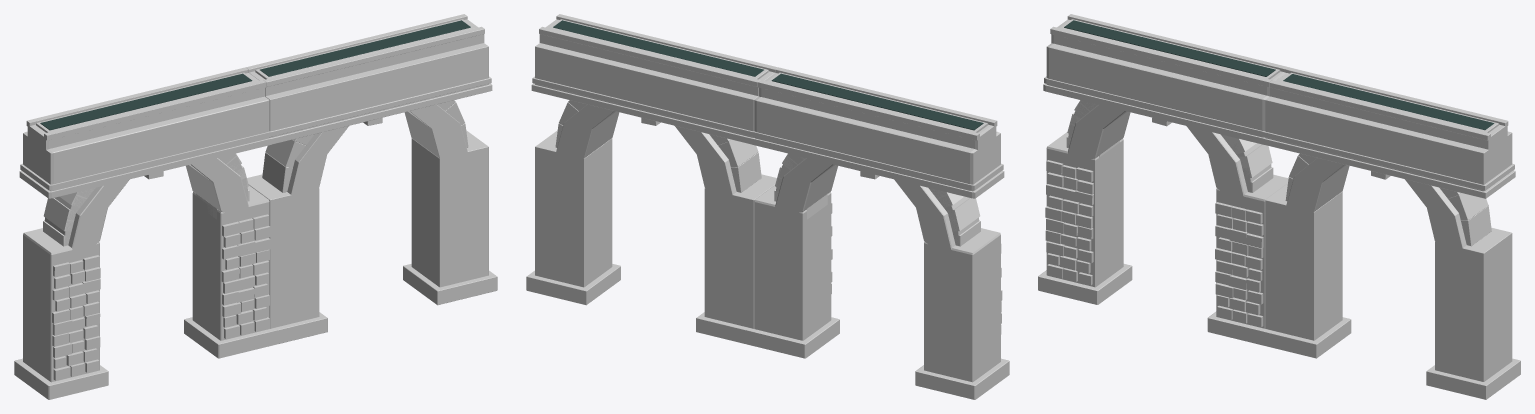
The model's file is Aqueduct.fbx.
3 renders of one model, left to right at view 1: azimuth 30°, elevation 25°; view 2: azimuth 150°, elevation 25°; view 3: azimuth 330°, elevation 25°, orthographic.
Visible parts, largest first — view 1: AQ_Joined, AQ_UpperMass, AQ_Pier_L, AQ_Arch, AQ_Pier_R, AQ_Channel, AQ_Water, AQ_Course_01, AQ_Channel_Lip_02, AQ_Foundation_L, AQ_Foundation_R, AQ_Course_02 (+4 smaller); view 2: AQ_Joined, AQ_Pier_L, AQ_Pier_R, AQ_UpperMass, AQ_Arch, AQ_Channel, AQ_Water, AQ_Course_01, AQ_Channel_Lip_01, Voussoir_01, AQ_Foundation_L, AQ_Foundation_R (+4 smaller); view 3: AQ_Joined, AQ_UpperMass, AQ_Pier_L, AQ_Arch, AQ_Channel, AQ_Water, AQ_Channel_Lip_02, AQ_Foundation_L, AQ_Course_01, Voussoir_01, AQ_Pier_R, AQ_Course_02 (+4 smaller).
Boxes of the visible parts, x1=… form: AQ_Joined: x1=246, y1=14, x2=497, y2=343; AQ_UpperMass: x1=23, y1=96, x2=269, y2=191; AQ_Pier_L: x1=23, y1=228, x2=99, y2=382; AQ_Arch: x1=68, y1=148, x2=251, y2=262; AQ_Pier_R: x1=192, y1=185, x2=269, y2=340; AQ_Channel: x1=27, y1=73, x2=264, y2=155; AQ_Water: x1=40, y1=73, x2=252, y2=130; AQ_Course_01: x1=19, y1=138, x2=270, y2=198; AQ_Channel_Lip_02: x1=44, y1=80, x2=265, y2=140; AQ_Foundation_L: x1=14, y1=358, x2=108, y2=399; AQ_Foundation_R: x1=184, y1=317, x2=277, y2=358; AQ_Course_02: x1=20, y1=132, x2=270, y2=190; AQ_Joined: x1=526, y1=14, x2=777, y2=343; AQ_Pier_L: x1=924, y1=228, x2=1000, y2=382; AQ_Pier_R: x1=754, y1=185, x2=831, y2=340; AQ_UpperMass: x1=754, y1=96, x2=1000, y2=191; AQ_Arch: x1=775, y1=149, x2=955, y2=261; AQ_Channel: x1=759, y1=73, x2=996, y2=155; AQ_Water: x1=771, y1=73, x2=983, y2=130; AQ_Course_01: x1=753, y1=138, x2=1004, y2=198; AQ_Channel_Lip_01: x1=758, y1=80, x2=979, y2=140; Voussoir_01: x1=774, y1=153, x2=980, y2=246; AQ_Foundation_L: x1=915, y1=358, x2=1009, y2=399; AQ_Foundation_R: x1=746, y1=317, x2=839, y2=358; AQ_Joined: x1=1256, y1=67, x2=1520, y2=399; AQ_UpperMass: x1=1046, y1=43, x2=1269, y2=137; AQ_Pier_L: x1=1046, y1=132, x2=1123, y2=287; AQ_Arch: x1=1065, y1=95, x2=1247, y2=208; AQ_Channel: x1=1051, y1=19, x2=1285, y2=96; AQ_Water: x1=1064, y1=20, x2=1275, y2=76; AQ_Channel_Lip_02: x1=1050, y1=26, x2=1271, y2=87; AQ_Foundation_L: x1=1038, y1=264, x2=1132, y2=304; AQ_Course_01: x1=1043, y1=83, x2=1264, y2=144; Voussoir_01: x1=1066, y1=100, x2=1273, y2=192; AQ_Pier_R: x1=1216, y1=174, x2=1288, y2=328; AQ_Course_02: x1=1044, y1=76, x2=1263, y2=136.
Size of the model in its own units: 1640 by 901 by 220.
